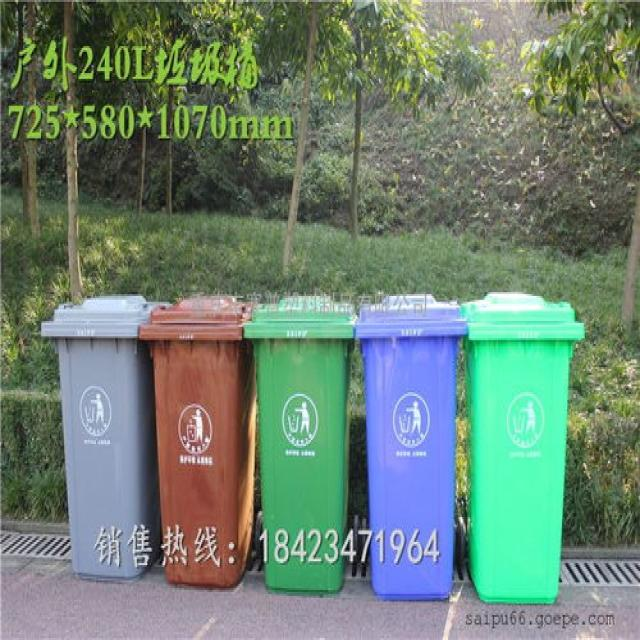garbage_bin: (458, 290, 584, 602), (40, 294, 170, 582), (242, 294, 357, 596), (353, 292, 465, 602), (138, 294, 255, 590)
